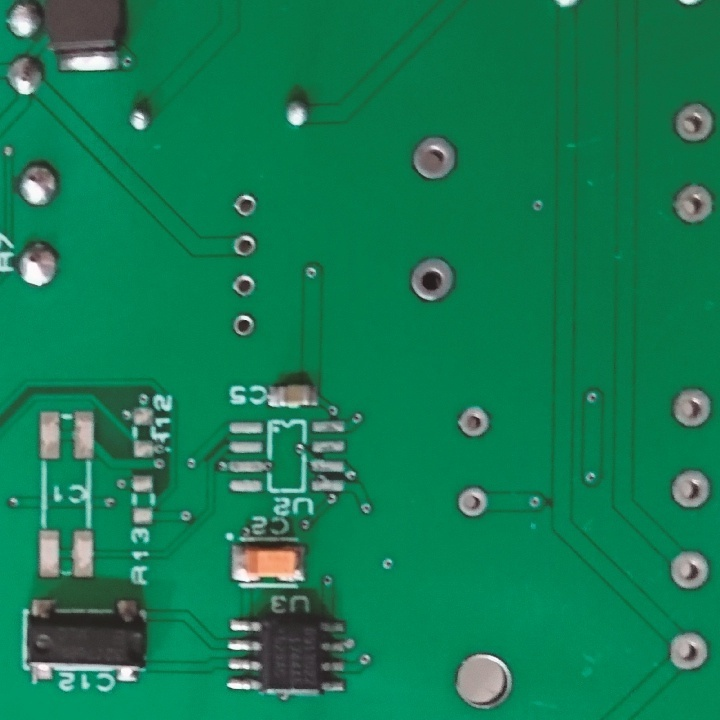F: (409, 135, 461, 183), (410, 255, 456, 303), (670, 181, 716, 226), (667, 385, 715, 428), (670, 102, 719, 144), (667, 546, 711, 592), (666, 629, 710, 675), (669, 467, 713, 509), (453, 403, 496, 438), (455, 483, 488, 519), (230, 311, 263, 336), (233, 192, 260, 219), (233, 233, 259, 260), (230, 272, 256, 296)
